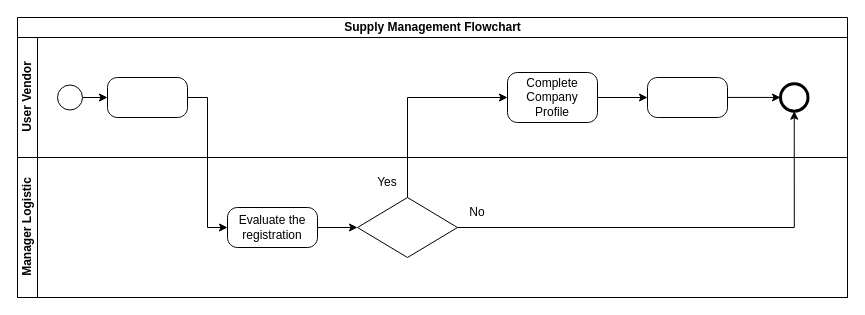
This 865x315 diagram has some shape labels left out. The shapes that lost their labels are listed below. From the top down, each one's centre as x and y in pixels, then its label:
At (147,97): "Registry".
At (687,97): "Submit Tender".
At (407,227): "Is Approved?".
